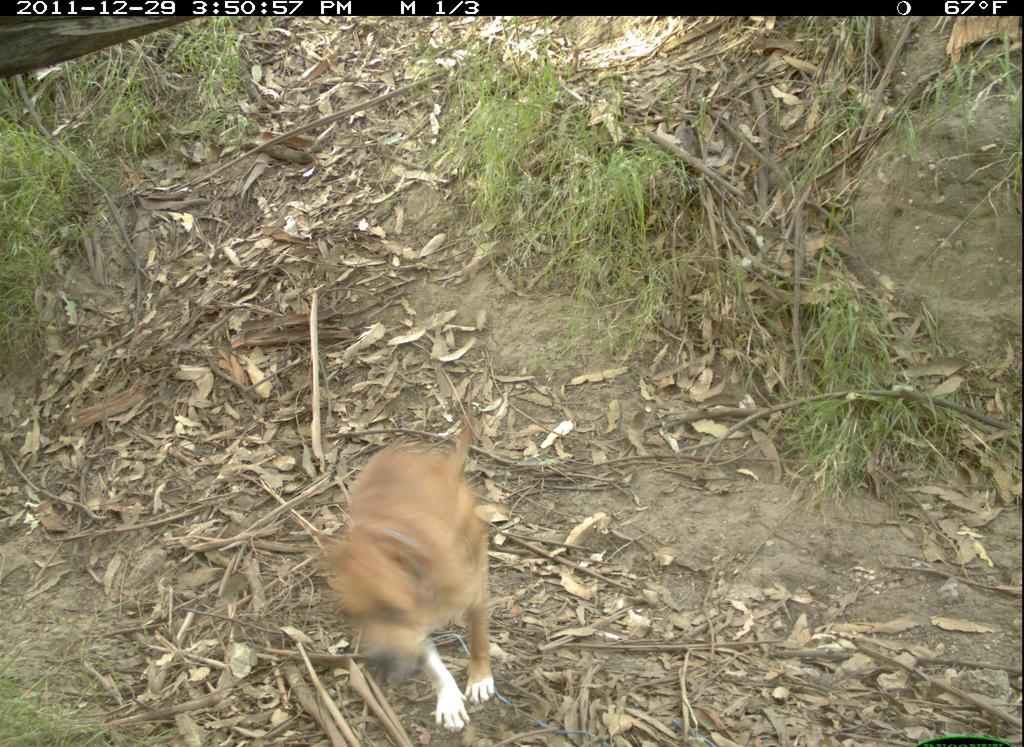dog: (310, 400, 510, 736)
